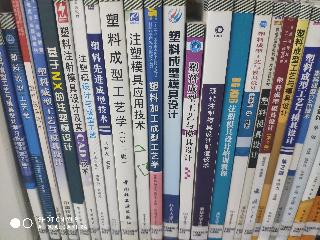book-spine: (247, 3, 313, 240), (254, 6, 320, 240), (240, 1, 300, 240), (0, 13, 60, 240), (12, 0, 67, 240), (218, 0, 273, 240), (201, 0, 255, 240), (38, 1, 91, 240), (25, 0, 77, 240), (234, 2, 285, 240), (184, 0, 233, 240), (55, 0, 100, 240), (71, 1, 111, 240), (0, 42, 48, 240), (269, 58, 320, 240), (100, 1, 138, 240), (85, 1, 121, 240), (124, 0, 154, 239), (174, 23, 205, 240), (159, 1, 184, 239), (145, 1, 161, 239)
